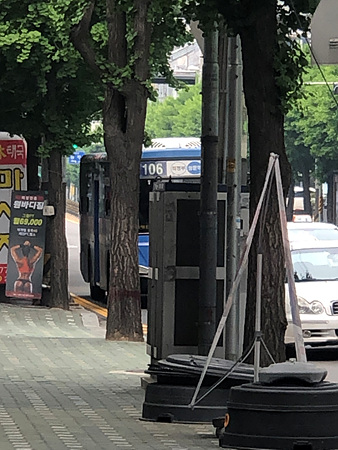bnum: (140, 160, 165, 176)
